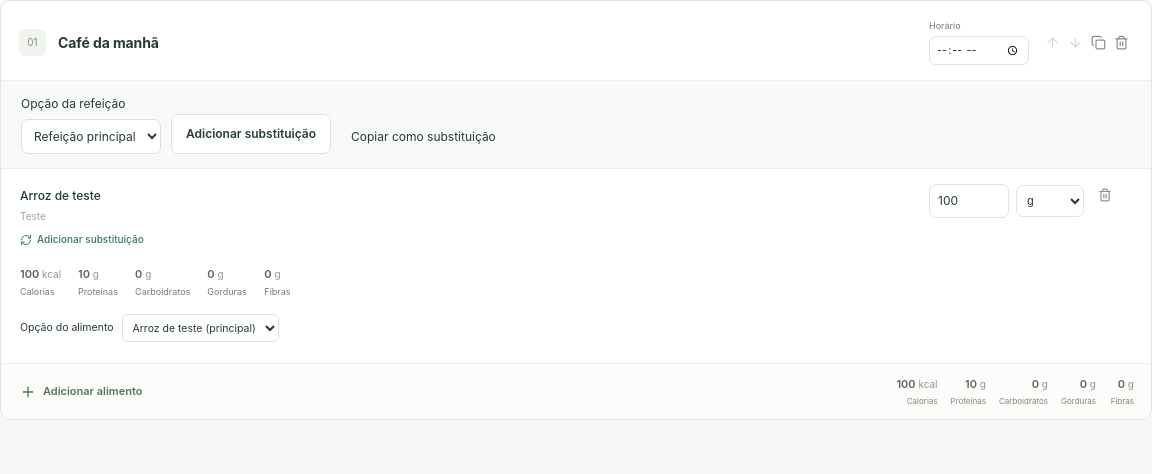
Test: troca a opção de alimento e mantém a quantidade principal ao voltar
Select "Batata de teste" in the dropdown named "Opção de Arroz de teste": {"x": 200, "y": 328} [122,314,279,342]
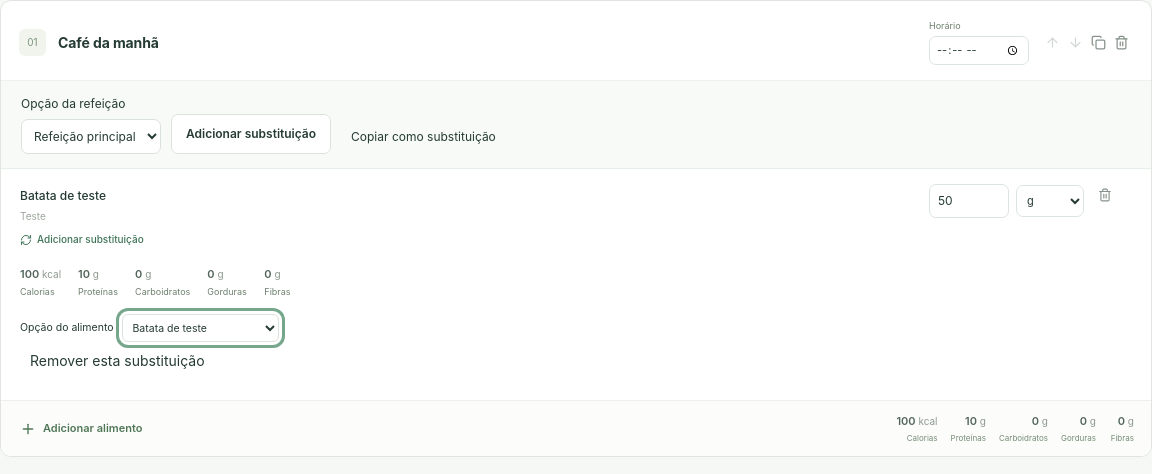
Expected: the button "Batata de teste" is shown, [20,187,106,205]
Expected: the field named "Quantidade de Batata de teste em g" holds "50", [929,184,1009,218]
Select "Arroz de teste (principal)" in the dropdown named "Opção de Arroz de teste": {"x": 200, "y": 328} [122,314,279,342]
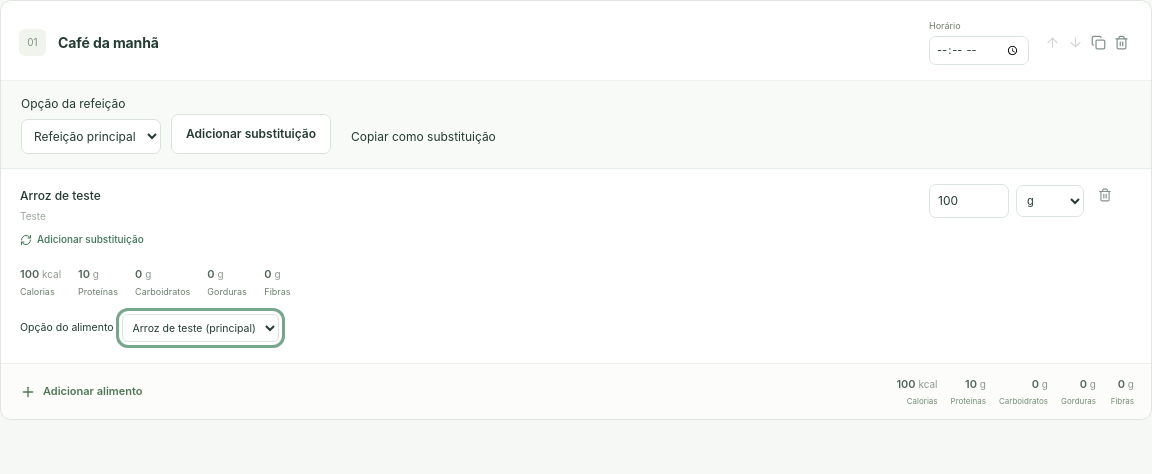
Expected: the field named "Quantidade de Arroz de teste em g" holds "100", [929,184,1009,218]
